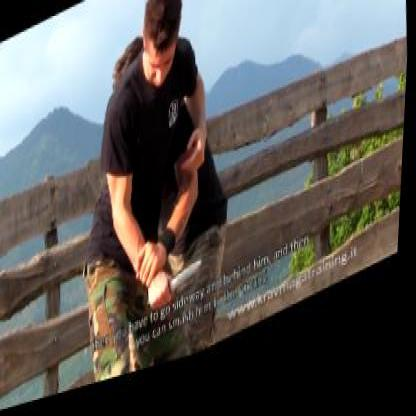knife: (144, 258, 210, 329)
